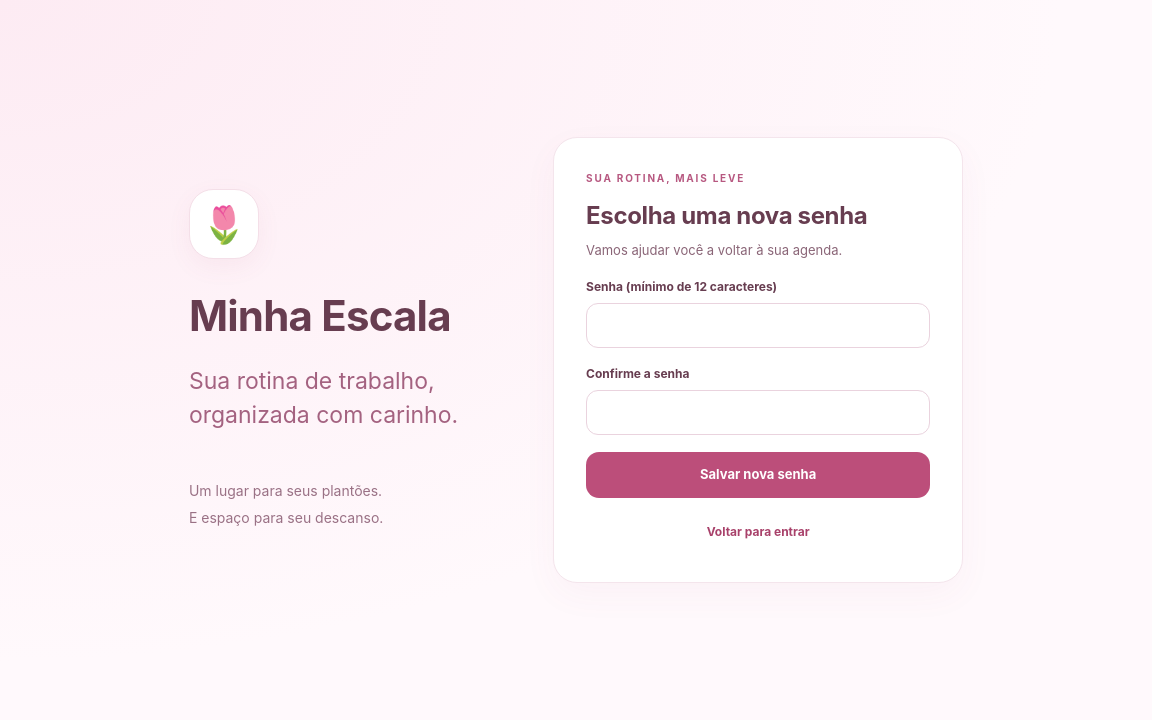
Test: autenticação na interface › bloqueia confirmação de senha diferente antes de enviar dados
Step 1. Type "senha-segura-123" into the password field labelled "Senha (mínimo de 12 caracteres)" → x=758, y=326, box x1=586 y1=303 x2=930 y2=348
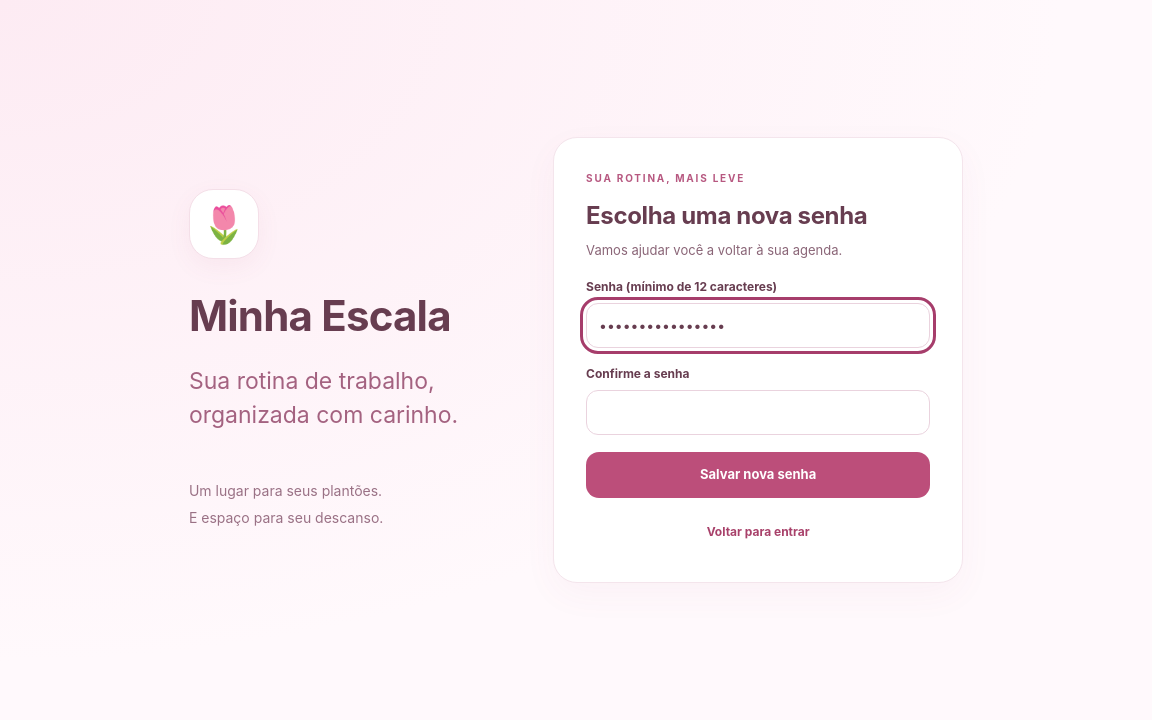
Step 2. Type "outra-senha-123" into the password field labelled "Confirme a senha" → x=758, y=413, box x1=586 y1=390 x2=930 y2=435
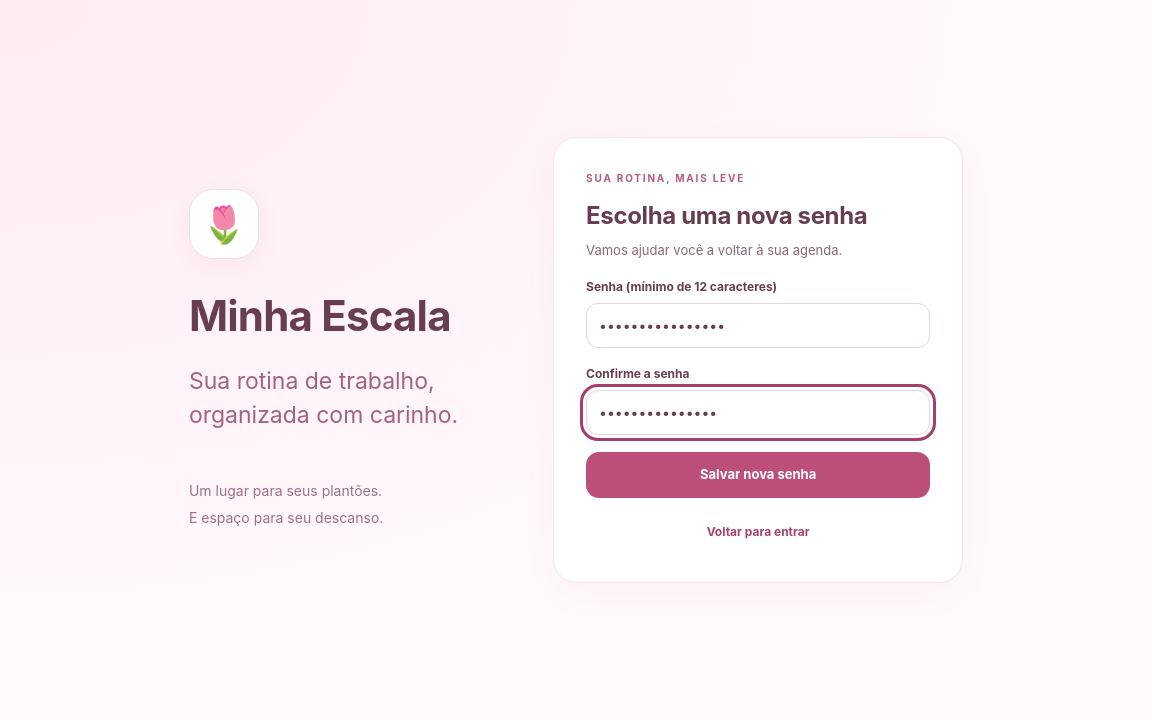
Step 3. Click the button "Salvar nova senha" → x=758, y=475, box x1=586 y1=452 x2=930 y2=498
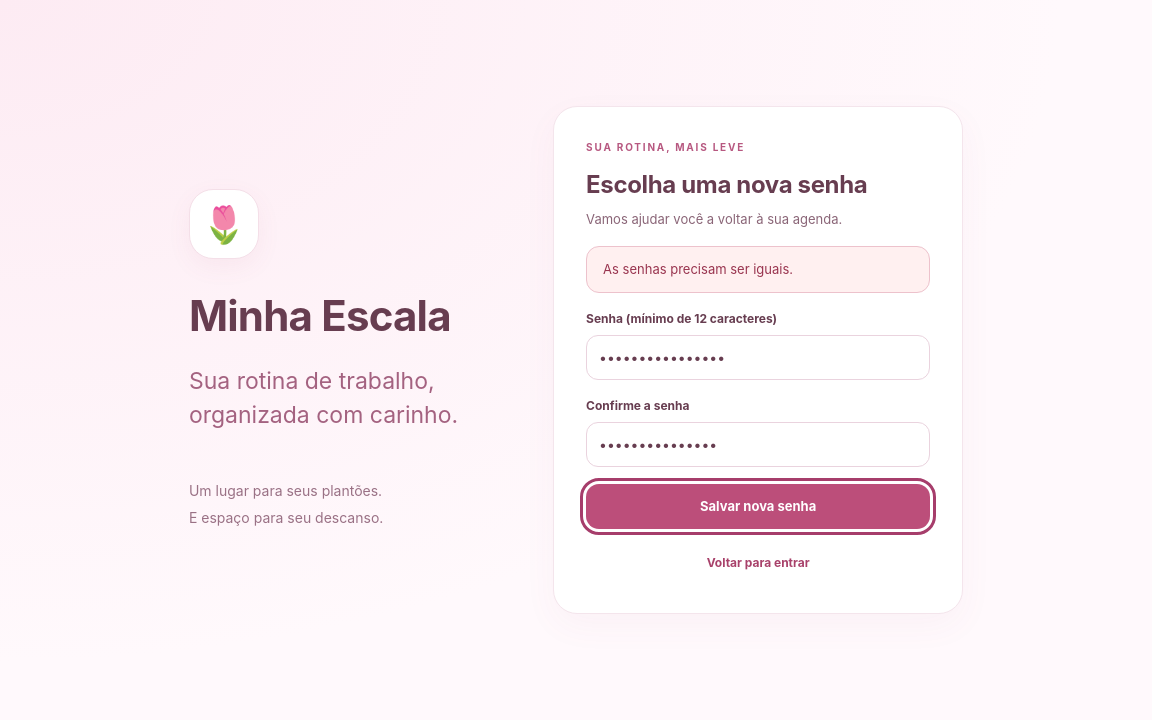
Result: the message reads "As senhas precisam ser iguais." at x1=603 y1=261 x2=793 y2=277
